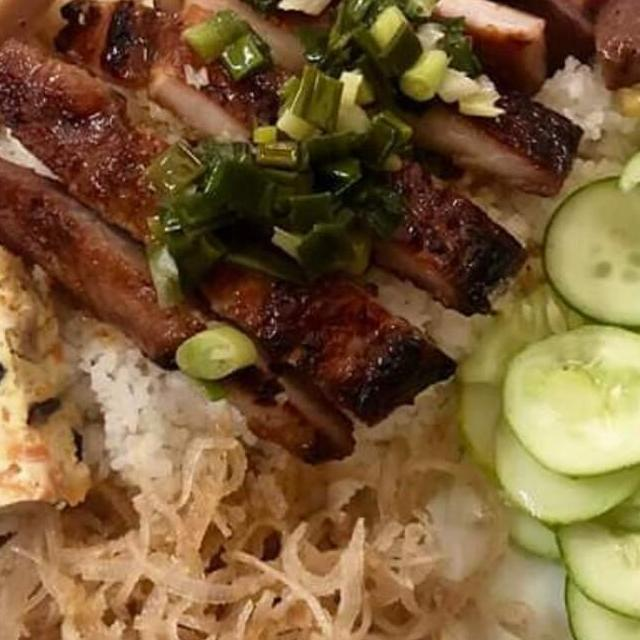bi: (0, 423, 522, 640)
com: (32, 286, 262, 516)
com suon bi trung: (0, 0, 640, 640)
suon: (0, 30, 464, 469), (38, 0, 589, 319), (126, 0, 640, 95)
trung: (0, 209, 98, 574)
